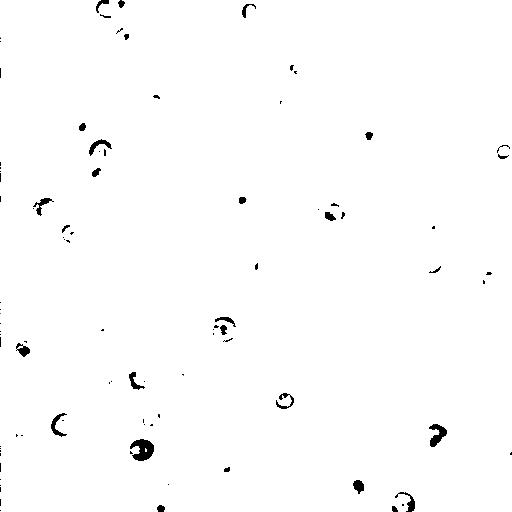micro-algae: (1, 51, 128, 184), (418, 46, 512, 138), (270, 1, 333, 51), (97, 378, 153, 433), (34, 235, 87, 286), (8, 325, 53, 369), (1, 31, 25, 105), (355, 116, 394, 158), (315, 191, 357, 230), (412, 421, 451, 462), (93, 485, 144, 511), (92, 318, 124, 355), (30, 193, 63, 226), (206, 314, 239, 345), (5, 419, 38, 450), (96, 369, 131, 398), (214, 455, 246, 486), (280, 53, 313, 83), (376, 297, 406, 328), (247, 379, 277, 409), (476, 261, 504, 293), (81, 160, 111, 188), (88, 138, 115, 168), (68, 113, 94, 143), (110, 25, 138, 51), (130, 365, 159, 390), (174, 352, 199, 381), (50, 412, 76, 438), (389, 490, 418, 512), (59, 222, 85, 246), (128, 439, 155, 462), (421, 252, 446, 275), (13, 340, 35, 366), (144, 496, 179, 512), (1, 184, 13, 228), (142, 406, 163, 431), (110, 0, 136, 18), (420, 217, 440, 238), (157, 475, 179, 494), (275, 392, 297, 410), (241, 2, 259, 22), (273, 91, 291, 111), (96, 1, 115, 19), (349, 478, 367, 497), (1, 71, 10, 109), (255, 256, 272, 276), (494, 143, 512, 160), (1, 472, 11, 499), (437, 65, 452, 81), (504, 446, 511, 477), (235, 194, 251, 206), (430, 0, 456, 7)
